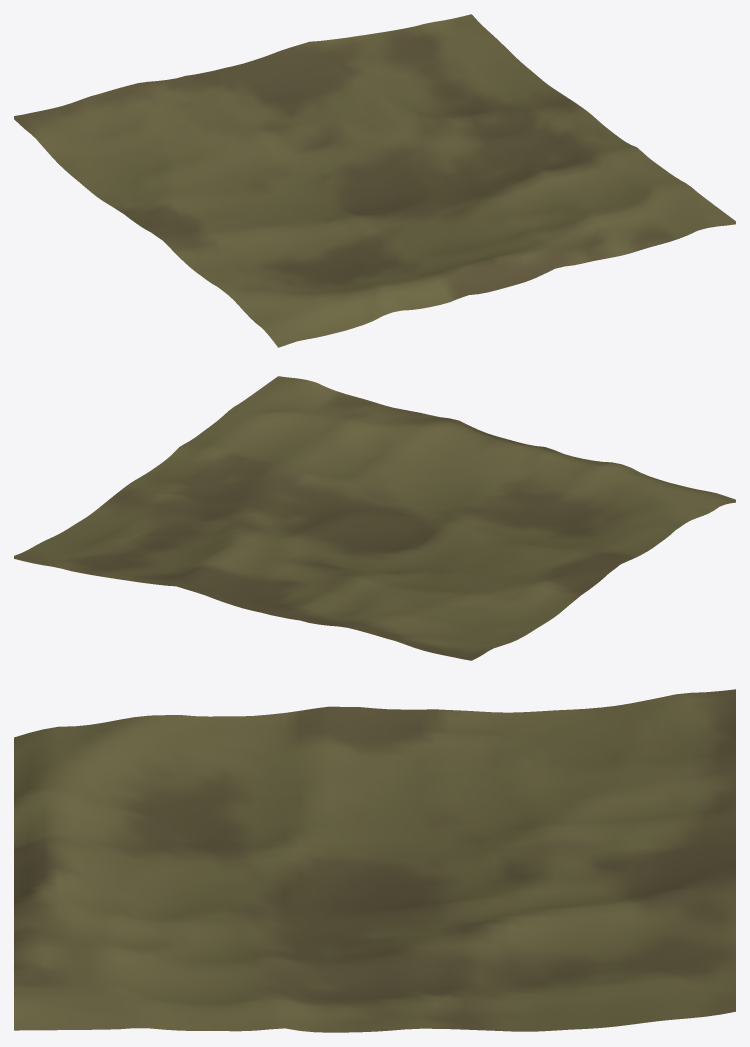
The model's file is land_m_11_07.glb.
The picture shows the model from 3 angles, top to bottom: view 1: azimuth 30°, elevation 25°; view 2: azimuth 150°, elevation 25°; view 3: azimuth 270°, elevation 25°; orthographic projection. The views are drawn at different scales.
Parts seen in each view (by area): view 1: land_m_11_07; view 2: land_m_11_07; view 3: land_m_11_07.
Part boxes in pixels (x1,y1,x2,y2): land_m_11_07: (14, 14, 735, 347); land_m_11_07: (14, 376, 735, 660); land_m_11_07: (14, 689, 735, 1032).
Size of the model in its own units: 960 by 82.25 by 960.
